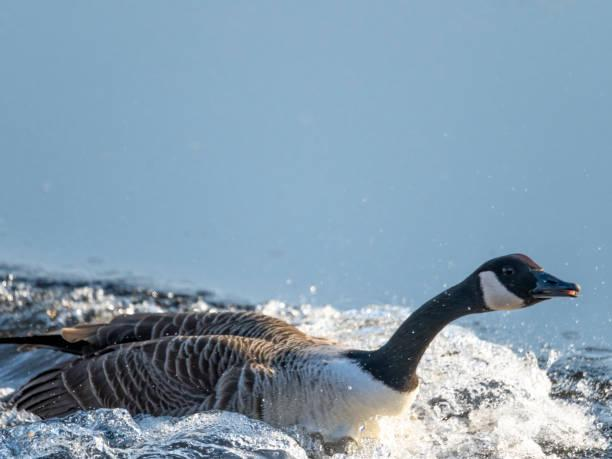Canadian-Goose: (0, 252, 580, 432)
